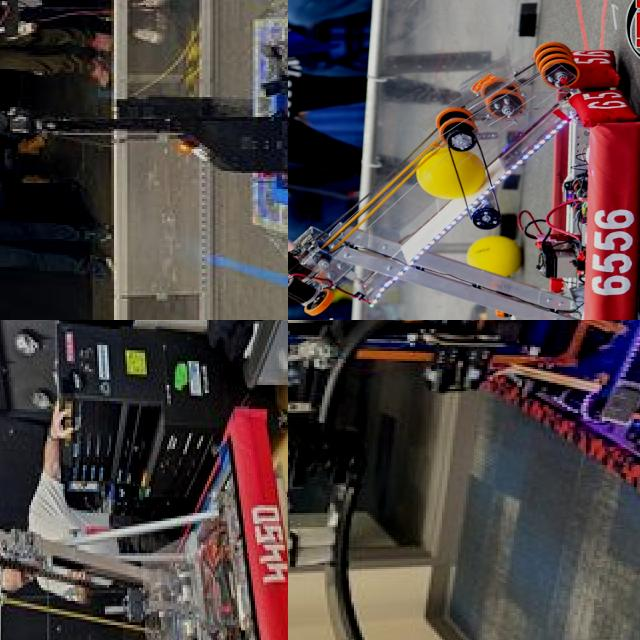FRC-Robots: (288, 320, 640, 640), (288, 39, 640, 320), (0, 367, 288, 640), (0, 24, 288, 220)
